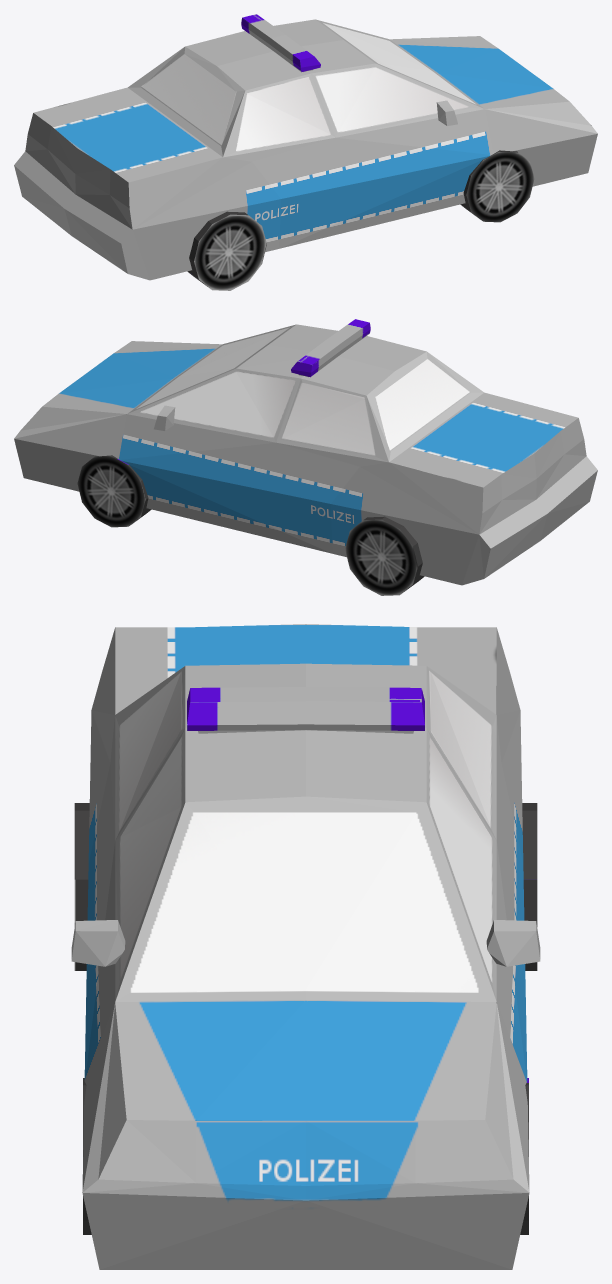
The model's file is police.obj.
3 renders of one model, top to bottom at view 1: azimuth 30°, elevation 25°; view 2: azimuth 150°, elevation 25°; view 3: azimuth 270°, elevation 25°, orthographic. The views are drawn at different scales.
Parts seen in each view (by area): view 1: vehiclePolice_GEO_Cube.054; view 2: vehiclePolice_GEO_Cube.054; view 3: vehiclePolice_GEO_Cube.054.
Boxes of the visible parts, x1=… form: vehiclePolice_GEO_Cube.054: x1=14, y1=14, x2=597, y2=290; vehiclePolice_GEO_Cube.054: x1=14, y1=319, x2=597, y2=595; vehiclePolice_GEO_Cube.054: x1=71, y1=624, x2=540, y2=1269.
Size of the model in its own units: 0.3525 by 0.131 by 0.1495.
Materials: 1 (1 with a texture image).
